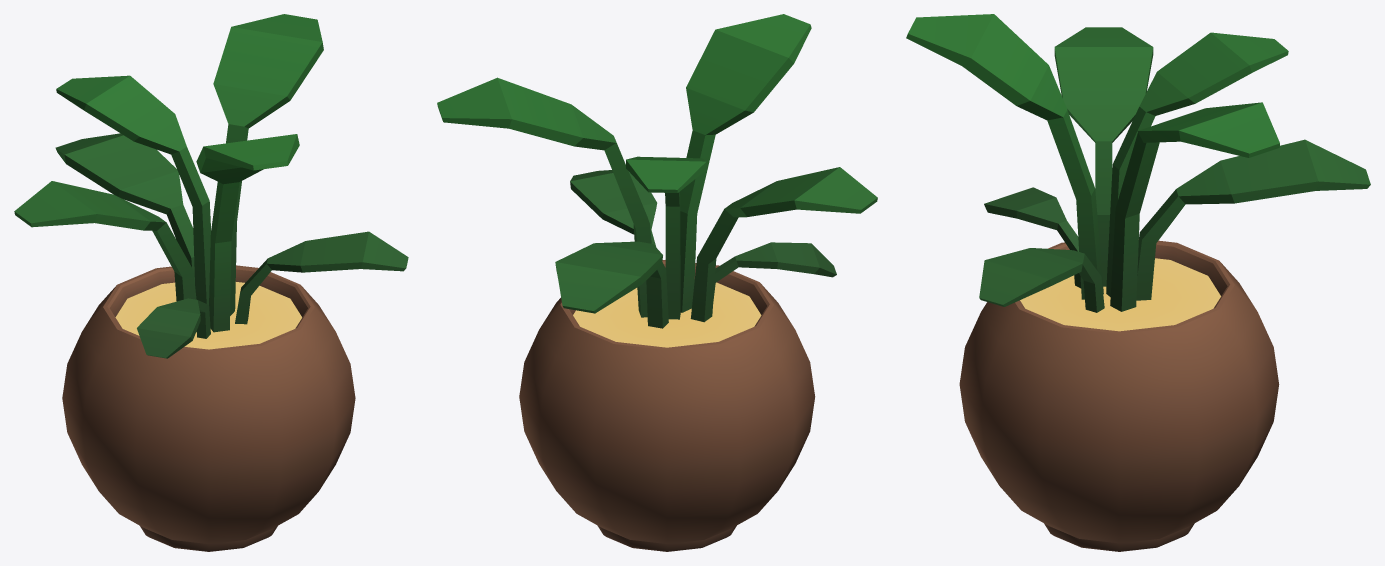
File: PP_Pot3.fbx
3 views of the same model, side by side, from view 1: azimuth 30°, elevation 25°; view 2: azimuth 150°, elevation 25°; view 3: azimuth 270°, elevation 25° (orthographic). The views are drawn at different scales.
Visible parts, largest first — view 1: Pot_3; view 2: Pot_3; view 3: Pot_3.
Part boxes in pixels (x1=…): Pot_3: x1=14, y1=14, x2=408, y2=551; Pot_3: x1=437, y1=14, x2=877, y2=551; Pot_3: x1=906, y1=14, x2=1370, y2=551.
Bounding box in the file's own units: 42.97 × 49.64 × 43.87.
